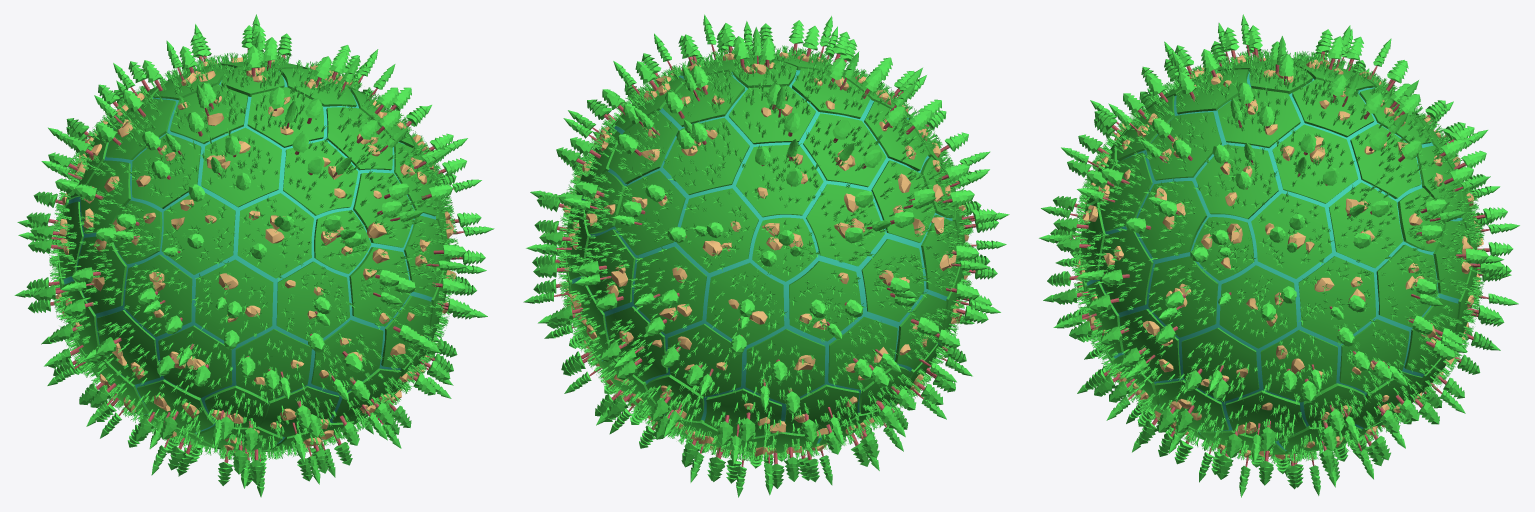
The picture shows the model from 3 angles, left to right: view 1: azimuth 30°, elevation 25°; view 2: azimuth 150°, elevation 25°; view 3: azimuth 270°, elevation 25°; orthographic projection.
Visible parts, largest first — view 1: Icosphere, GD_mesh.018, GD_mesh.135, GD_mesh.159, GD_mesh.132, GD_mesh.015, GD_mesh.016, GD_mesh.138, GD_mesh.014, GD_mesh.140, GD_mesh.146, GD_mesh.147 (+27 smaller); view 2: Icosphere, GD_mesh.022, GD_mesh.023, GD_mesh.129, GD_mesh.155, GD_mesh.145, GD_mesh.180, GD_mesh.143, GD_mesh.141, GD_mesh.131, GD_mesh.001, GD_mesh.162 (+27 smaller); view 3: Icosphere, GD_mesh.158, GD_mesh.174, GD_mesh.006, GD_mesh.124, GD_mesh.126, GD_mesh.125, GD_mesh.175, GD_mesh.181, GD_mesh.157, GD_mesh.160, GD_mesh.161 (+28 smaller).
Part boxes in pixels (bbox=[...]): Icosphere: bbox=[63, 71, 435, 444]; GD_mesh.018: bbox=[195, 259, 273, 344]; GD_mesh.135: bbox=[237, 193, 313, 278]; GD_mesh.159: bbox=[161, 193, 235, 274]; GD_mesh.132: bbox=[201, 127, 281, 207]; GD_mesh.015: bbox=[276, 261, 349, 340]; GD_mesh.016: bbox=[283, 140, 357, 215]; GD_mesh.138: bbox=[235, 329, 311, 400]; GD_mesh.014: bbox=[124, 254, 192, 336]; GD_mesh.140: bbox=[132, 135, 201, 208]; GD_mesh.146: bbox=[311, 320, 383, 392]; GD_mesh.147: bbox=[158, 325, 232, 397]; Icosphere: bbox=[572, 58, 961, 443]; GD_mesh.022: bbox=[706, 263, 784, 344]; GD_mesh.023: bbox=[677, 188, 758, 272]; GD_mesh.129: bbox=[736, 145, 823, 217]; GD_mesh.155: bbox=[663, 117, 749, 194]; GD_mesh.145: bbox=[745, 329, 825, 403]; GD_mesh.180: bbox=[633, 246, 706, 334]; GD_mesh.143: bbox=[806, 184, 884, 266]; GD_mesh.141: bbox=[789, 261, 861, 341]; GD_mesh.131: bbox=[803, 113, 886, 187]; GD_mesh.001: bbox=[614, 170, 685, 255]; GD_mesh.162: bbox=[667, 323, 742, 396]; Icosphere: bbox=[1086, 71, 1474, 451]; GD_mesh.158: bbox=[1251, 193, 1331, 278]; GD_mesh.174: bbox=[1298, 256, 1375, 343]; GD_mesh.006: bbox=[1219, 265, 1296, 348]; GD_mesh.124: bbox=[1272, 124, 1358, 203]; GD_mesh.126: bbox=[1195, 145, 1278, 219]; GD_mesh.125: bbox=[1329, 182, 1402, 268]; GD_mesh.175: bbox=[1148, 256, 1218, 337]; GD_mesh.181: bbox=[1181, 327, 1259, 401]; GD_mesh.157: bbox=[1138, 181, 1207, 259]; GD_mesh.160: bbox=[1260, 329, 1337, 402]; GD_mesh.161: bbox=[1376, 244, 1437, 327].
Bounding box in the file's own units: 3.15 × 3.24 × 3.16.
